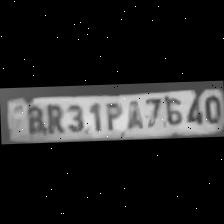0: (202, 92, 222, 123)
1: (84, 100, 104, 132)
3: (62, 101, 84, 132)
4: (183, 92, 203, 124)
6: (160, 94, 184, 126)
7: (141, 95, 161, 128)
A: (122, 98, 144, 130)
B: (22, 102, 44, 136)
P: (100, 99, 122, 131)
R: (43, 100, 63, 134)
